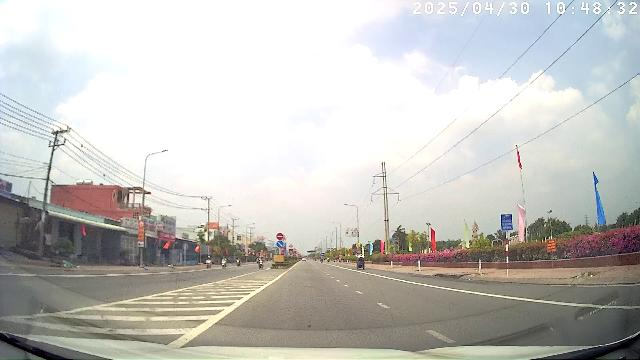102-cam-di-nguoc-chieu: (276, 233, 283, 240)
302a-huong-phai-di-vong-chuong-ngai-vat-1: (276, 240, 283, 248)
